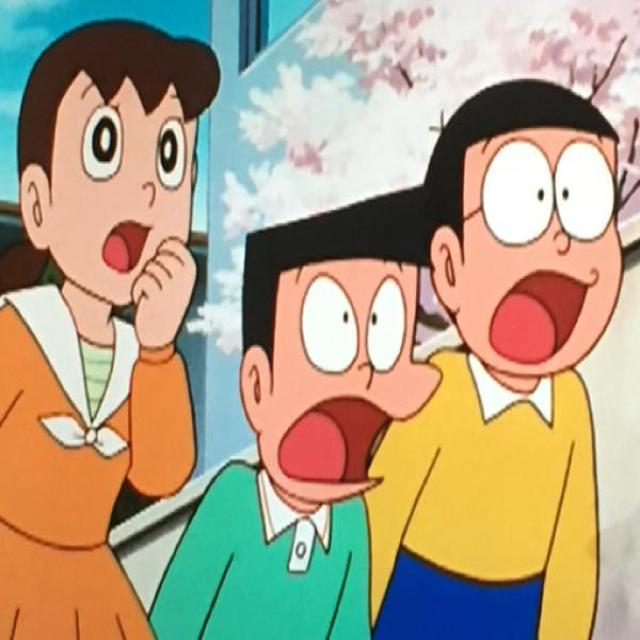nobita: (419, 72, 625, 403)
shizuka: (11, 16, 226, 316)
suneo: (236, 188, 444, 515)
